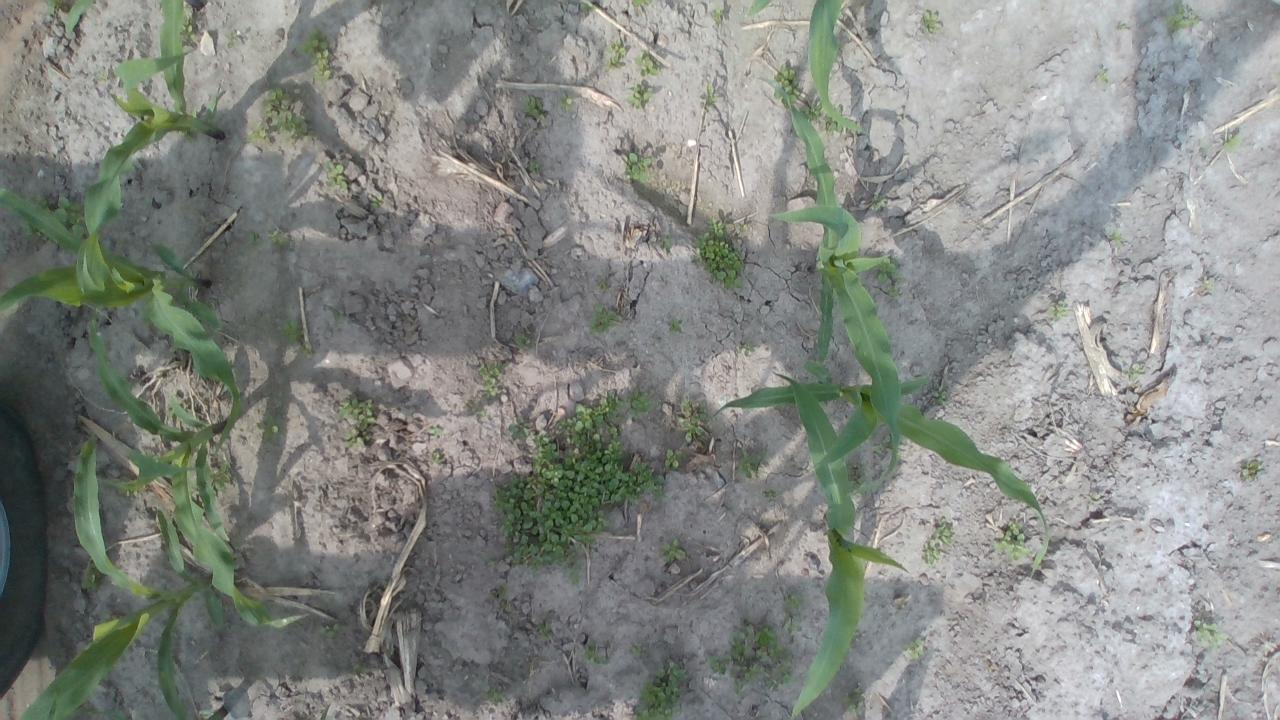Maize: (83, 314, 309, 632), (711, 371, 1054, 572), (0, 185, 244, 451), (758, 75, 908, 486), (19, 431, 227, 720), (768, 365, 907, 719), (74, 47, 230, 296), (36, 0, 188, 119), (746, 0, 864, 132)
Weeds: (490, 389, 640, 586), (728, 618, 799, 695), (248, 86, 314, 151), (692, 215, 746, 289), (632, 661, 688, 720), (295, 26, 334, 88), (272, 317, 312, 358), (52, 192, 86, 240), (992, 522, 1032, 562), (335, 395, 376, 430), (677, 399, 709, 443), (632, 462, 664, 503), (774, 63, 804, 106), (875, 258, 904, 301), (1190, 618, 1225, 652), (1166, 2, 1200, 34), (587, 303, 619, 336), (624, 389, 658, 419), (736, 448, 767, 480), (479, 360, 505, 398), (624, 152, 653, 184), (633, 50, 662, 78), (660, 535, 690, 562), (627, 85, 655, 112), (869, 433, 903, 455), (324, 160, 348, 191), (840, 688, 866, 715), (930, 516, 954, 545), (210, 463, 232, 494), (520, 94, 544, 120), (583, 639, 606, 666), (22, 193, 50, 214), (606, 38, 626, 67), (920, 8, 944, 32), (902, 638, 925, 662), (17, 217, 42, 238), (259, 412, 280, 437), (703, 653, 728, 674), (846, 459, 866, 485), (700, 82, 720, 108), (481, 684, 506, 704), (822, 114, 844, 136), (268, 226, 290, 248), (801, 99, 822, 122), (921, 540, 940, 565), (1046, 301, 1068, 322), (344, 428, 367, 448), (664, 448, 686, 468), (1240, 460, 1262, 480), (1123, 364, 1145, 381), (1223, 133, 1242, 152), (246, 230, 266, 248), (81, 571, 99, 591), (931, 388, 950, 406), (871, 190, 888, 210), (782, 594, 801, 611), (178, 128, 198, 144), (513, 334, 529, 352), (1108, 230, 1124, 248), (1196, 138, 1214, 154), (670, 319, 688, 335), (224, 29, 238, 48), (526, 160, 546, 173), (711, 0, 722, 23), (658, 232, 672, 250), (558, 95, 572, 113), (370, 192, 384, 209), (319, 624, 336, 638), (1096, 66, 1108, 85), (762, 488, 778, 502), (630, 0, 656, 8), (1199, 279, 1215, 292), (578, 0, 595, 12), (352, 662, 369, 674), (95, 68, 109, 81), (1087, 492, 1103, 503), (118, 489, 138, 497), (432, 452, 445, 464), (631, 644, 642, 658), (428, 425, 440, 437), (66, 497, 74, 513), (741, 342, 752, 353), (334, 312, 346, 322), (536, 623, 545, 633), (478, 408, 489, 416), (1120, 22, 1128, 31)
